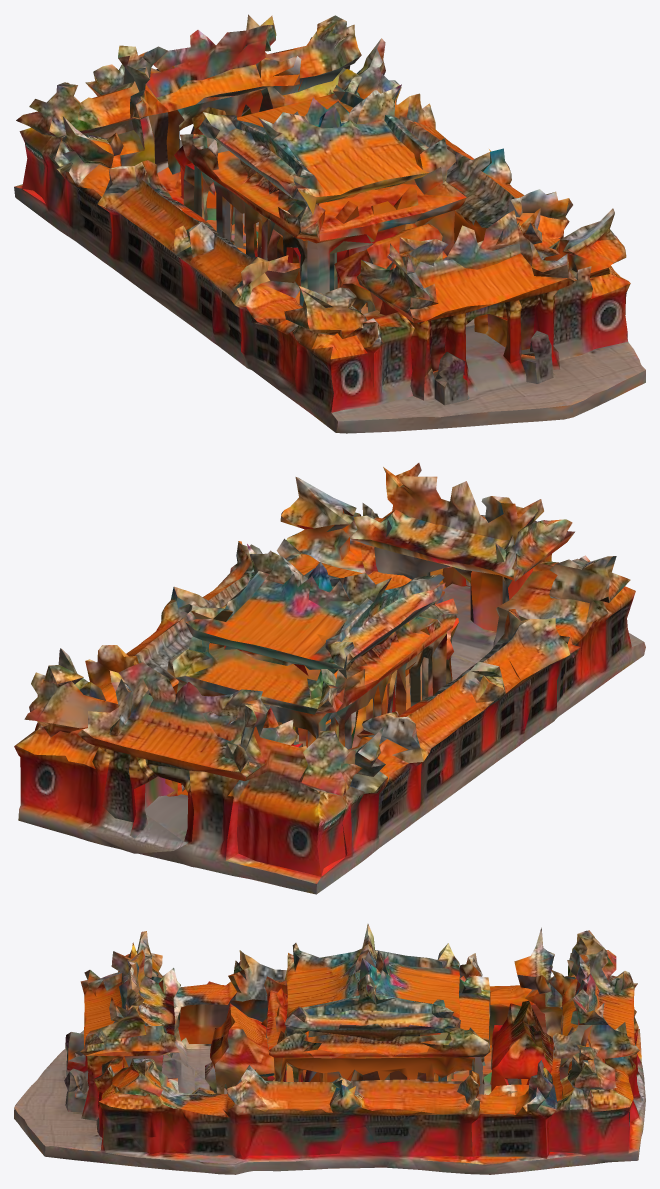
File: lukang-mazu-temple.glb
The picture shows the model from 3 angles, top to bottom: view 1: azimuth 30°, elevation 25°; view 2: azimuth 150°, elevation 25°; view 3: azimuth 270°, elevation 25°; orthographic projection. The views are drawn at different scales.
Visible parts, largest first — view 1: logan-textured.obj; view 2: logan-textured.obj; view 3: logan-textured.obj.
Part boxes in pixels (left/top/right/bottom): logan-textured.obj: left=14, top=14, right=645, bottom=433; logan-textured.obj: left=14, top=463, right=645, bottom=894; logan-textured.obj: left=14, top=924, right=645, bottom=1174.
Bounding box in the file's own units: 0.5404 × 0.2632 × 1.
Materials: 1 (1 with a texture image).
